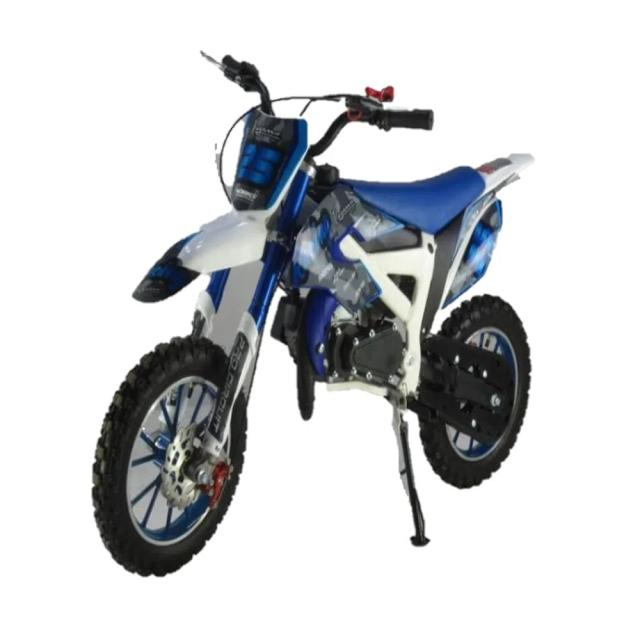MOTORCYCLE: (91, 63, 542, 586)
